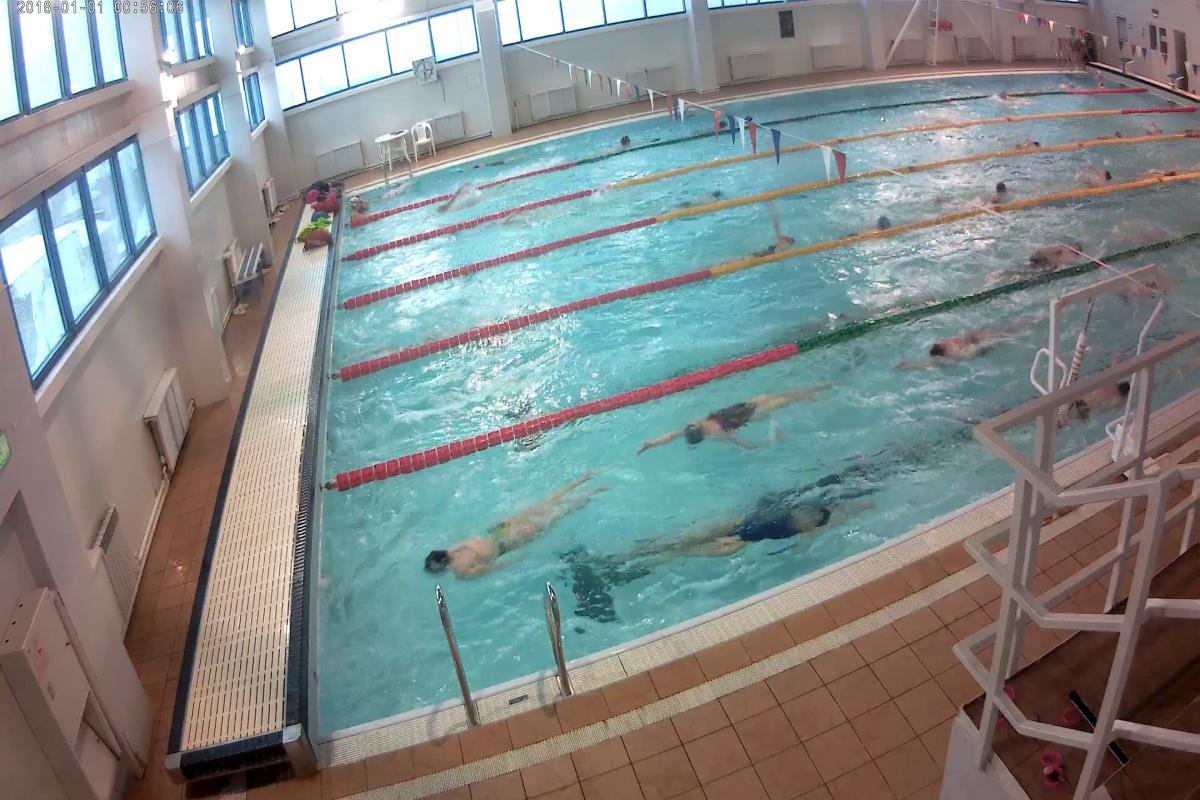swimmer: (423, 468, 608, 581), (640, 379, 826, 457), (648, 495, 847, 567), (906, 312, 1029, 364), (1069, 379, 1129, 424), (730, 225, 794, 262), (1027, 244, 1085, 270), (970, 179, 1018, 209), (1062, 166, 1120, 181)
